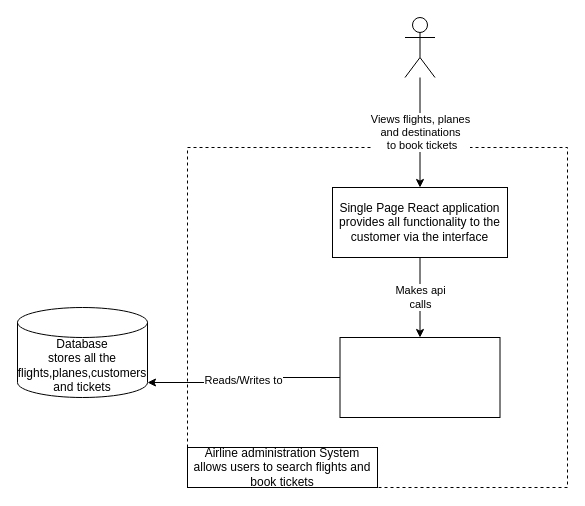
This 585x506 diagram has some shape labels left out. The centre of each missing label's shape, as x and y in pixels:
"Customer" goes at pixel 419 47.
"Spring API provides all the required functionality" goes at pixel 419 377.
